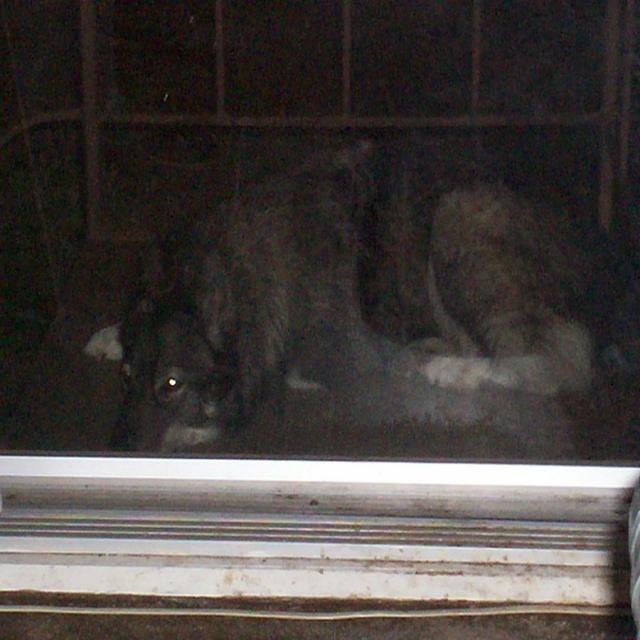Dog: (72, 112, 640, 575)
